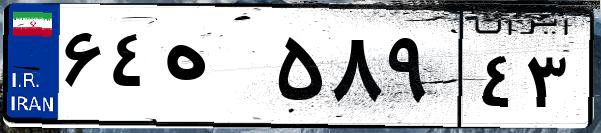3: (525, 38, 570, 115)
4: (475, 38, 525, 113), (110, 28, 158, 98)
5: (270, 28, 330, 110)
6: (57, 26, 110, 100)
8: (330, 28, 385, 110)
9: (385, 28, 445, 110)
ه: (158, 20, 270, 120)
